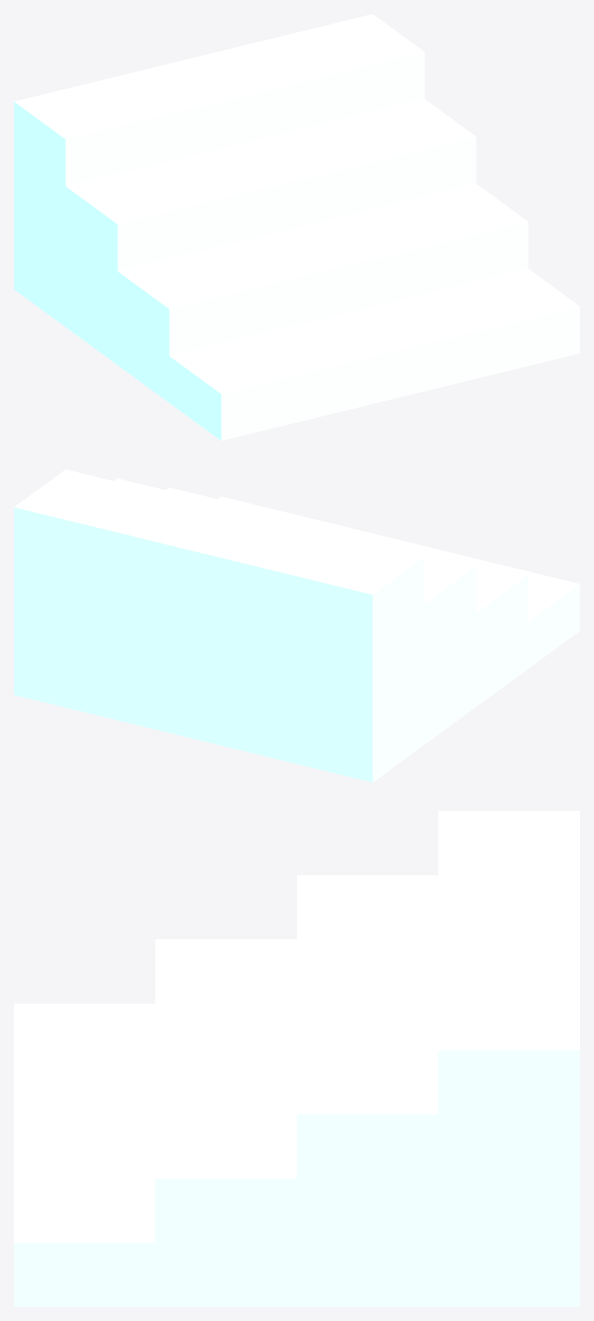
The model's file is a89_degraus_dourados.glb.
3 views of the same model, one above another, from view 1: azimuth 30°, elevation 25°; view 2: azimuth 150°, elevation 25°; view 3: azimuth 270°, elevation 25° (orthographic). The views are drawn at different scales.
Parts seen in each view (by area): view 1: a89_degraus_dourados; view 2: a89_degraus_dourados; view 3: a89_degraus_dourados.
Boxes of the visible parts, <box> form: a89_degraus_dourados: <box>14,14,579,440</box>; a89_degraus_dourados: <box>14,469,579,782</box>; a89_degraus_dourados: <box>14,811,579,1306</box>.
Bounding box in the file's own units: 2 × 1 × 2.
